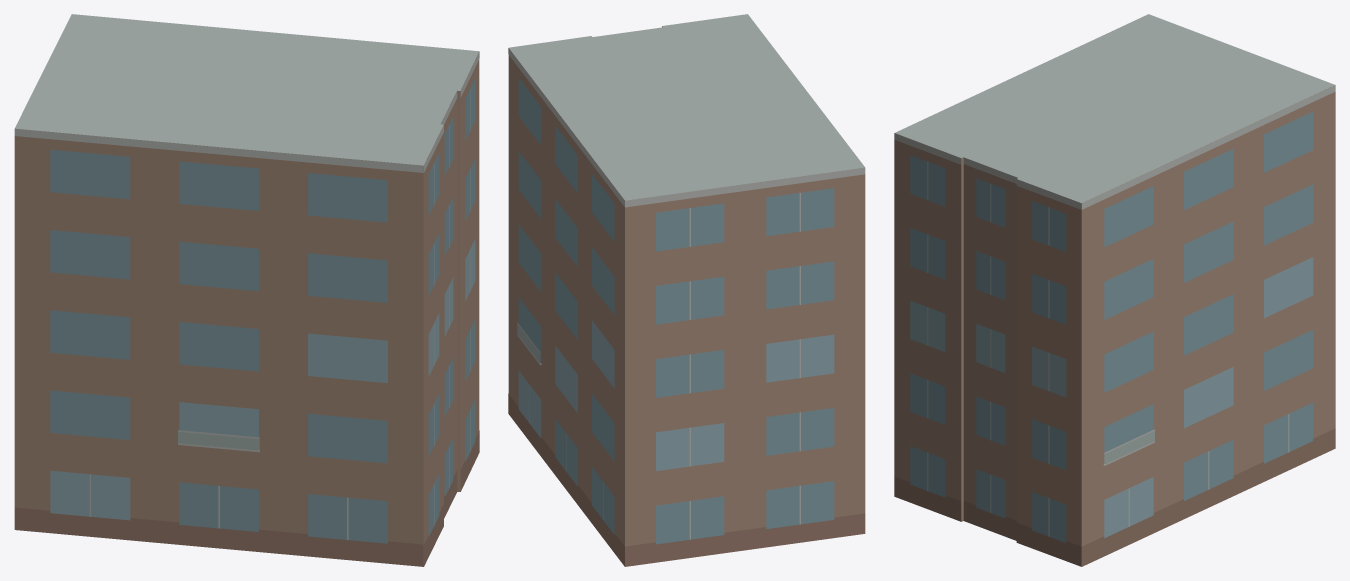
The model's file is survey-upis-32527157.glb.
3 renders of one model, left to right at view 1: azimuth 30°, elevation 25°; view 2: azimuth 150°, elevation 25°; view 3: azimuth 270°, elevation 25°, orthographic. The views are drawn at different scales.
Visible parts, largest first — view 1: survey-upis-32527157.tmp; view 2: survey-upis-32527157.tmp; view 3: survey-upis-32527157.tmp.
Boxes of the visible parts, x1=… form: survey-upis-32527157.tmp: x1=14, y1=14, x2=479, y2=566; survey-upis-32527157.tmp: x1=508, y1=14, x2=865, y2=566; survey-upis-32527157.tmp: x1=894, y1=14, x2=1335, y2=566.
Size of the model in its own units: 14.85 by 13.3 by 14.63.
